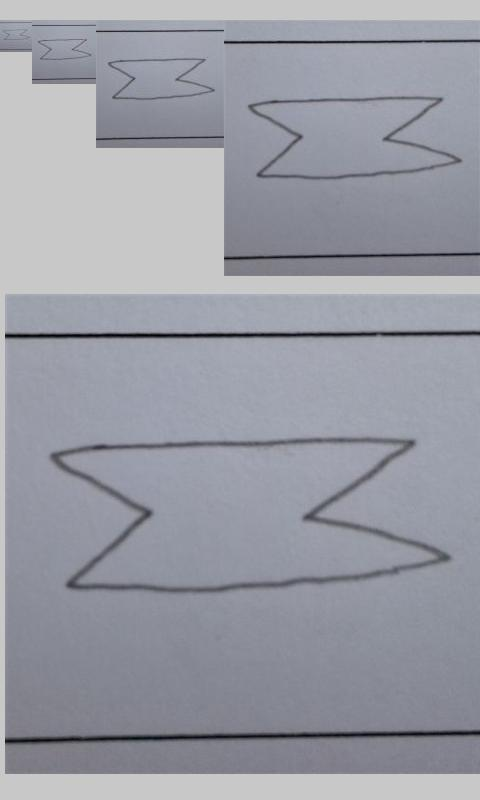edit_text: (50, 434, 453, 595), (248, 96, 462, 181), (107, 58, 216, 100), (37, 38, 91, 61), (2, 28, 30, 40)
